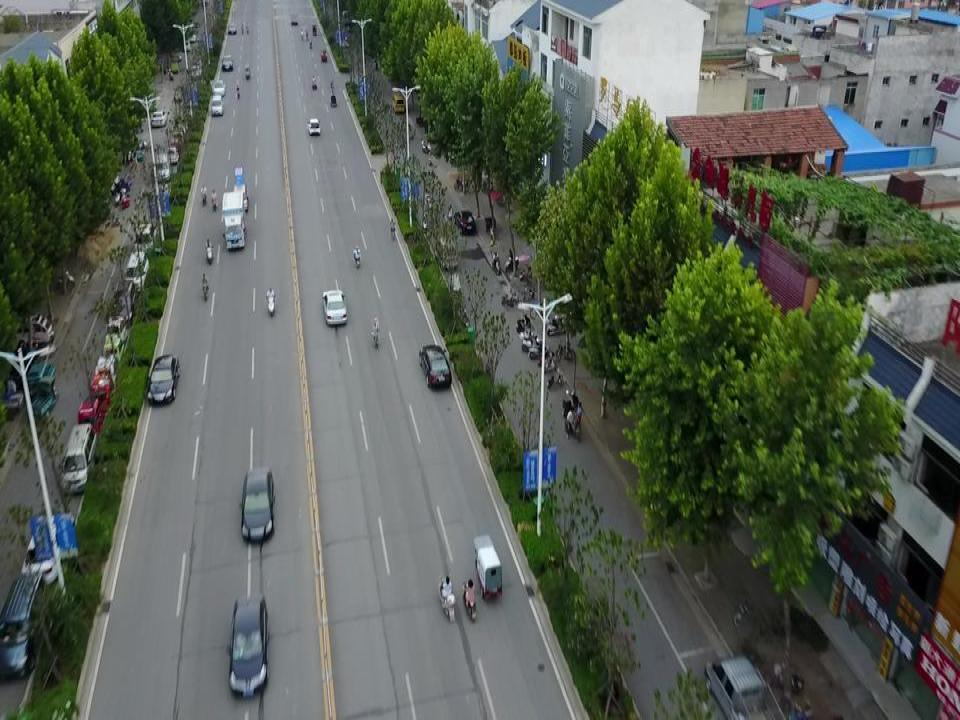car: (229, 594, 270, 698), (21, 513, 77, 580), (240, 465, 276, 542), (145, 356, 181, 404), (419, 344, 453, 392), (111, 278, 137, 326), (78, 396, 107, 433), (13, 315, 54, 341), (124, 248, 148, 289), (322, 289, 347, 326), (135, 224, 156, 257), (453, 209, 475, 236), (151, 110, 167, 126), (307, 119, 321, 136), (213, 80, 226, 97)
truck: (706, 653, 787, 720), (221, 190, 248, 251)
van: (60, 425, 99, 492), (434, 236, 457, 272), (155, 154, 171, 182), (392, 93, 405, 115), (211, 93, 223, 116)
